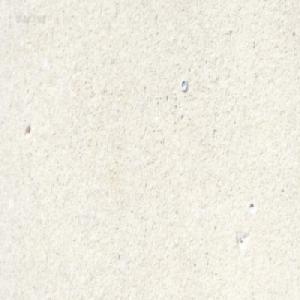Washer: (180, 77, 187, 92)
